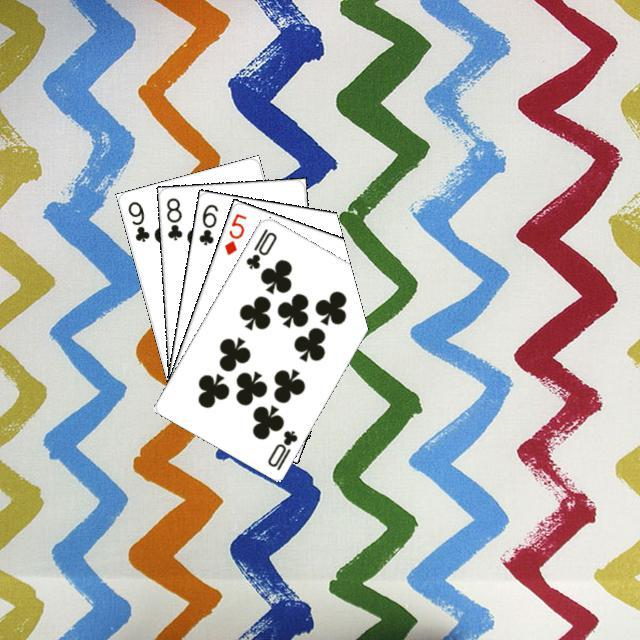10c: (241, 223, 279, 271), (262, 425, 299, 472)
5d: (219, 208, 248, 257)
6c: (194, 199, 220, 247)
8c: (161, 193, 184, 242)
9c: (123, 196, 151, 244)
